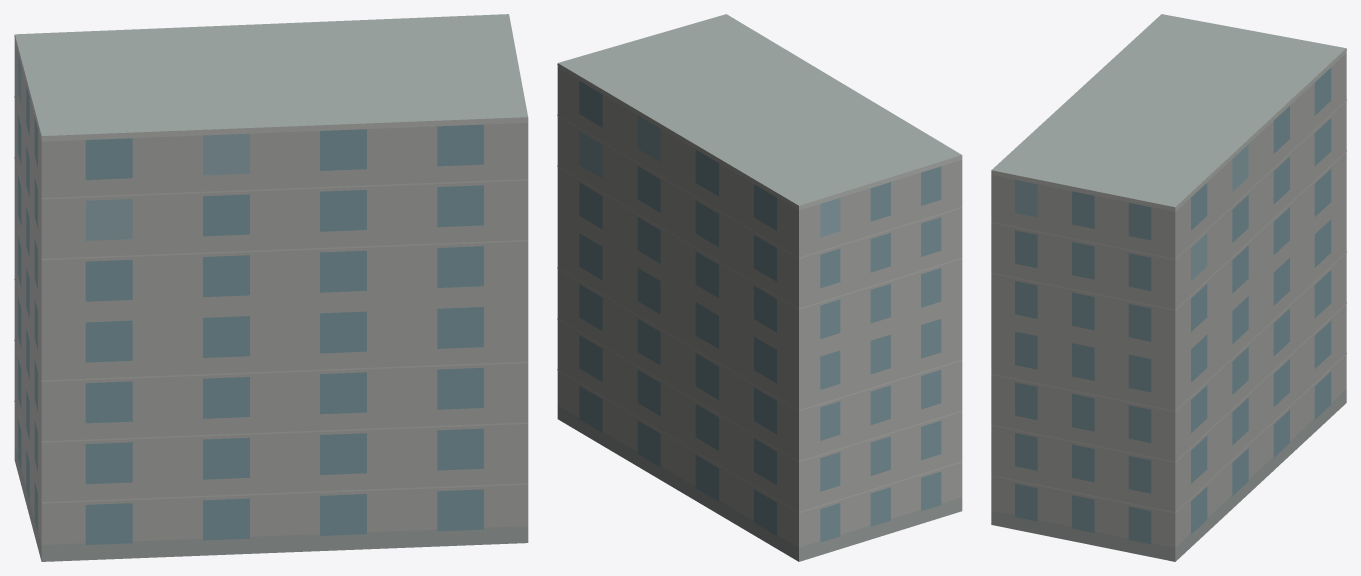
The model's file is survey-upis-32631629.glb.
The picture shows the model from 3 angles, left to right: view 1: azimuth 30°, elevation 25°; view 2: azimuth 150°, elevation 25°; view 3: azimuth 270°, elevation 25°; orthographic projection. The views are drawn at different scales.
Visible parts, largest first — view 1: survey-upis-32631629.tmp; view 2: survey-upis-32631629.tmp; view 3: survey-upis-32631629.tmp.
Part boxes in pixels (x1,y1,x2,y2): survey-upis-32631629.tmp: [14, 14, 528, 561]; survey-upis-32631629.tmp: [557, 14, 962, 561]; survey-upis-32631629.tmp: [991, 14, 1346, 561].
Bounding box in the file's own units: 21.42 × 18.3 × 16.64.
